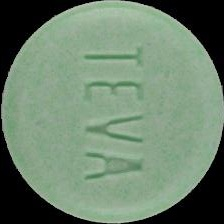51655-865: (0, 0, 224, 224)
